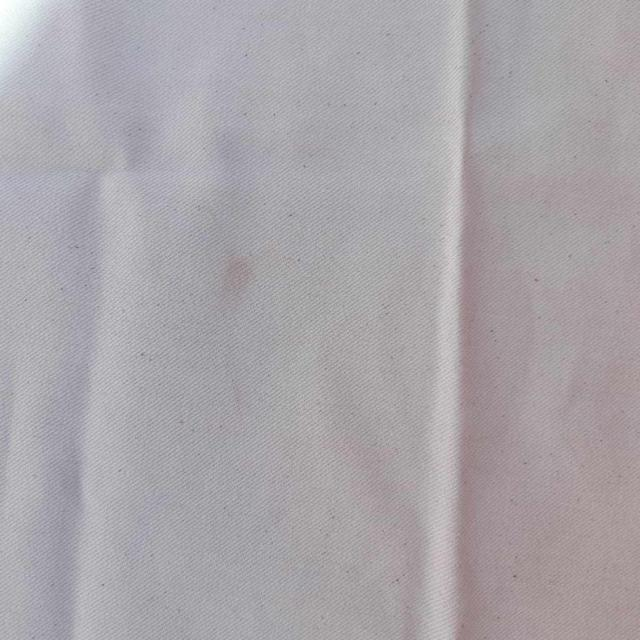taaaches: (212, 235, 257, 307)
